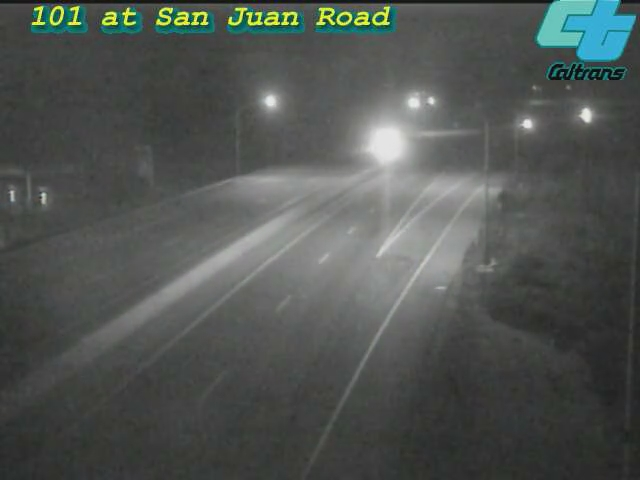vehicle: (356, 118, 406, 168), (505, 99, 555, 149), (558, 90, 608, 140)
